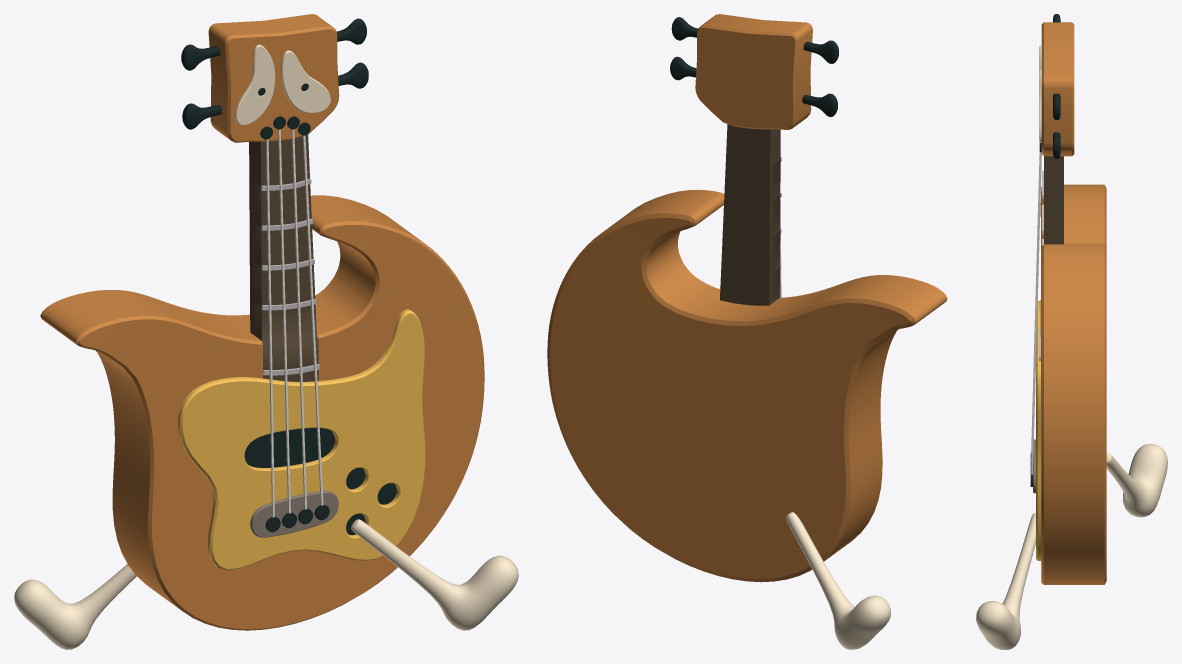
Rendered from musica.glb.
The picture shows the model from 3 angles, left to right: view 1: azimuth 30°, elevation 25°; view 2: azimuth 150°, elevation 25°; view 3: azimuth 270°, elevation 25°; orthographic projection. The views are drawn at different scales.
Parts seen in each view (by area): view 1: yellow; view 2: yellow; view 3: yellow.
Part boxes in pixels (x1,y1,x2,y2): yellow: (14,14,518,649); yellow: (547,14,947,649); yellow: (976,14,1167,649).
Size of the model in its own units: 1.01 by 1.47 by 0.4743.
Materials: 1 (1 with a texture image).
